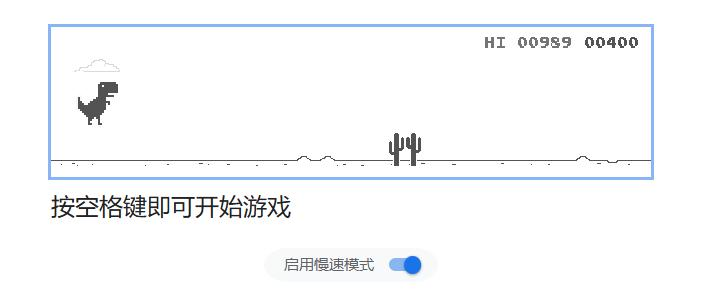cactus: (387, 132, 422, 166)
dino: (76, 80, 118, 126)
